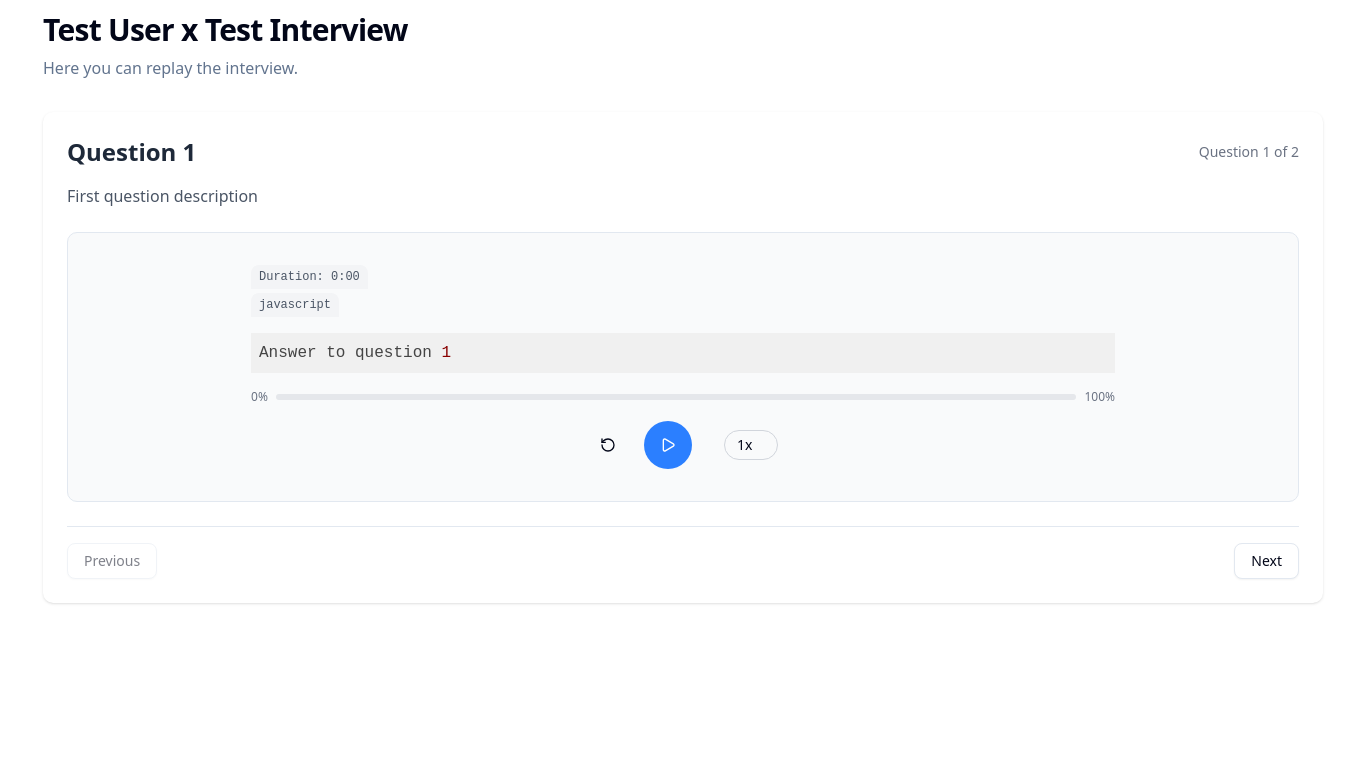
ReadonlyInterview › navigates to previous question when Previous button is clicked
The width and height of the screenshot is (1366, 780).
Navigate to second question first
Click the button "Next": (1267, 561) [1234, 543, 1299, 579]
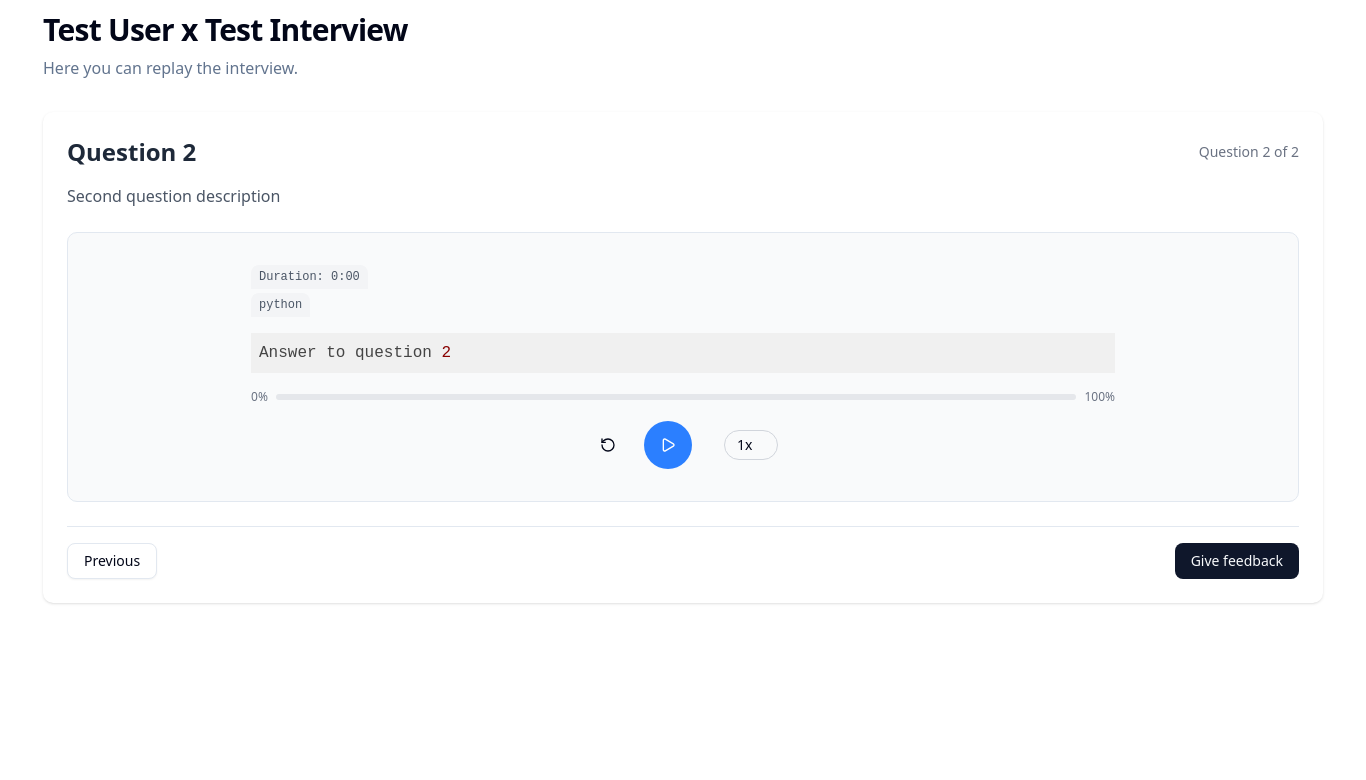
Now the heading "Question 2" is shown, box [67, 136, 196, 168]
Click Previous button
Click the button "Previous": (112, 561) [67, 543, 157, 579]
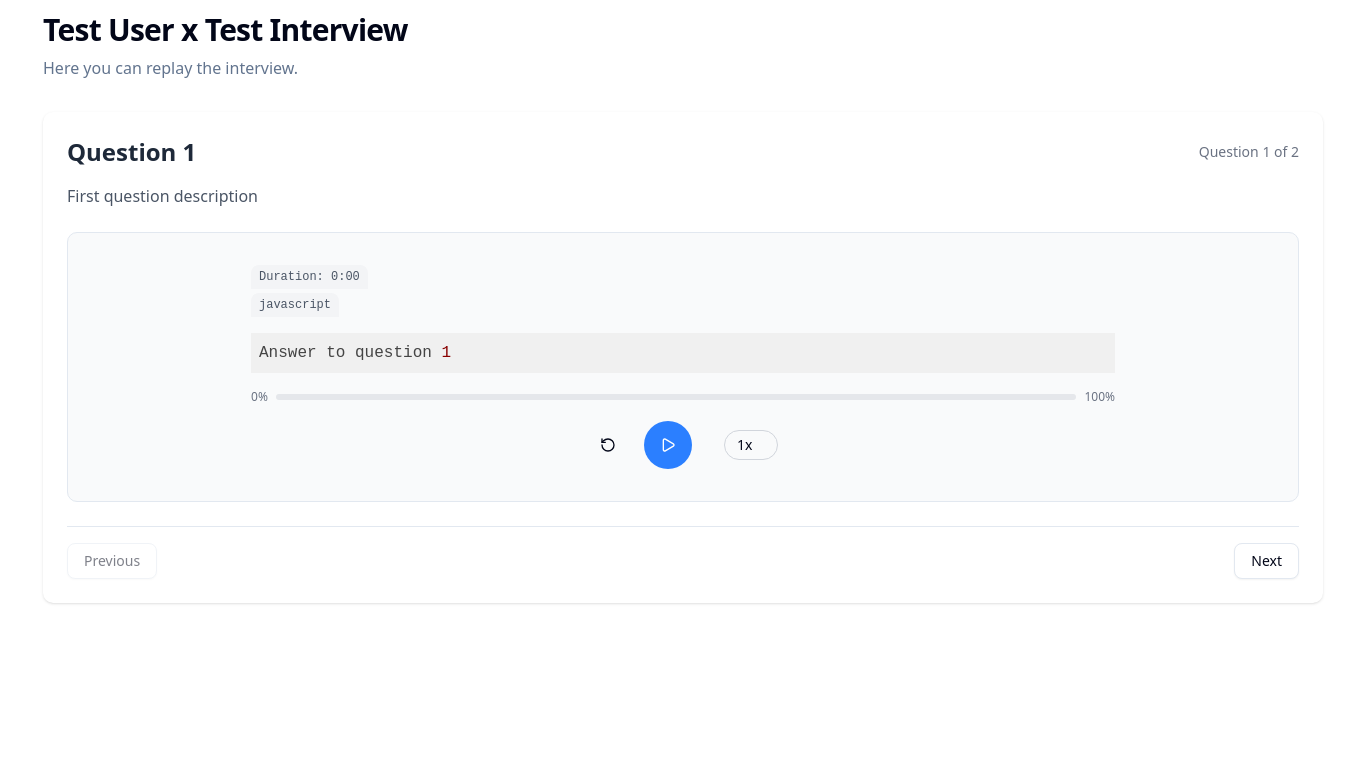
Now the heading "Question 1" is shown, box [67, 136, 196, 168]
Now the text "Question 1 of 2" is shown, box [1199, 142, 1299, 162]
